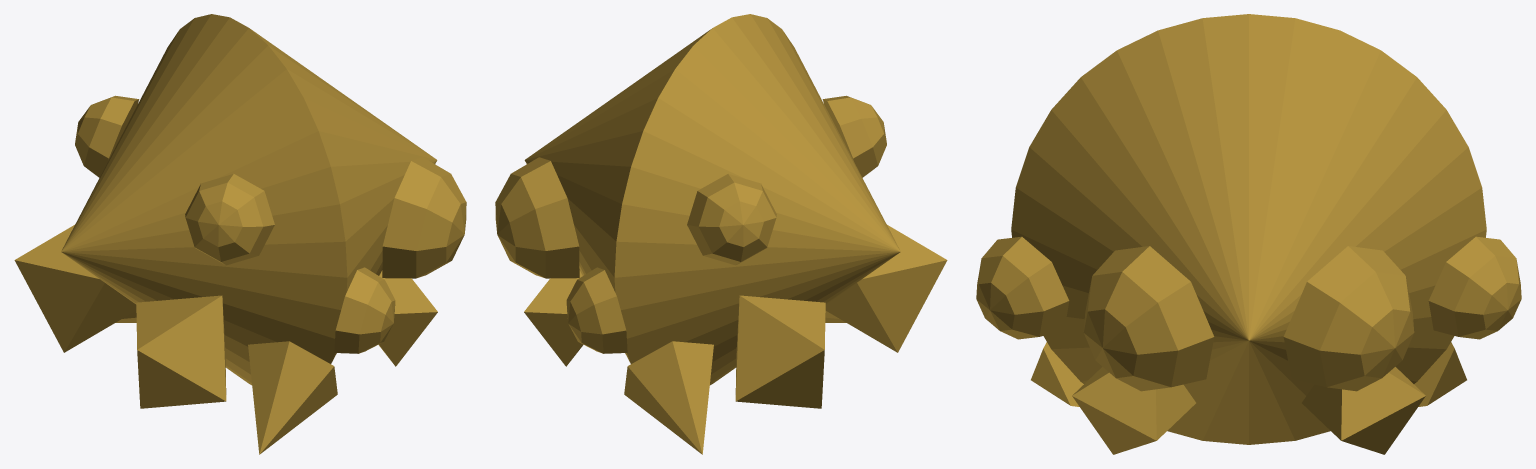
The model's file is exp2_spindle_sym_02.glb.
The picture shows the model from 3 angles, left to right: view 1: azimuth 30°, elevation 25°; view 2: azimuth 150°, elevation 25°; view 3: azimuth 270°, elevation 25°; orthographic projection. The views are drawn at different scales.
Visible parts, largest first — view 1: exp2_spindle_sym_02; view 2: exp2_spindle_sym_02; view 3: exp2_spindle_sym_02.
Part boxes in pixels (left/top/right/bottom): exp2_spindle_sym_02: left=14, top=14, right=466, bottom=454; exp2_spindle_sym_02: left=495, top=14, right=947, bottom=454; exp2_spindle_sym_02: left=976, top=14, right=1521, bottom=454.
Bounding box in the file's own units: 1.44 × 1.3 × 1.49.
